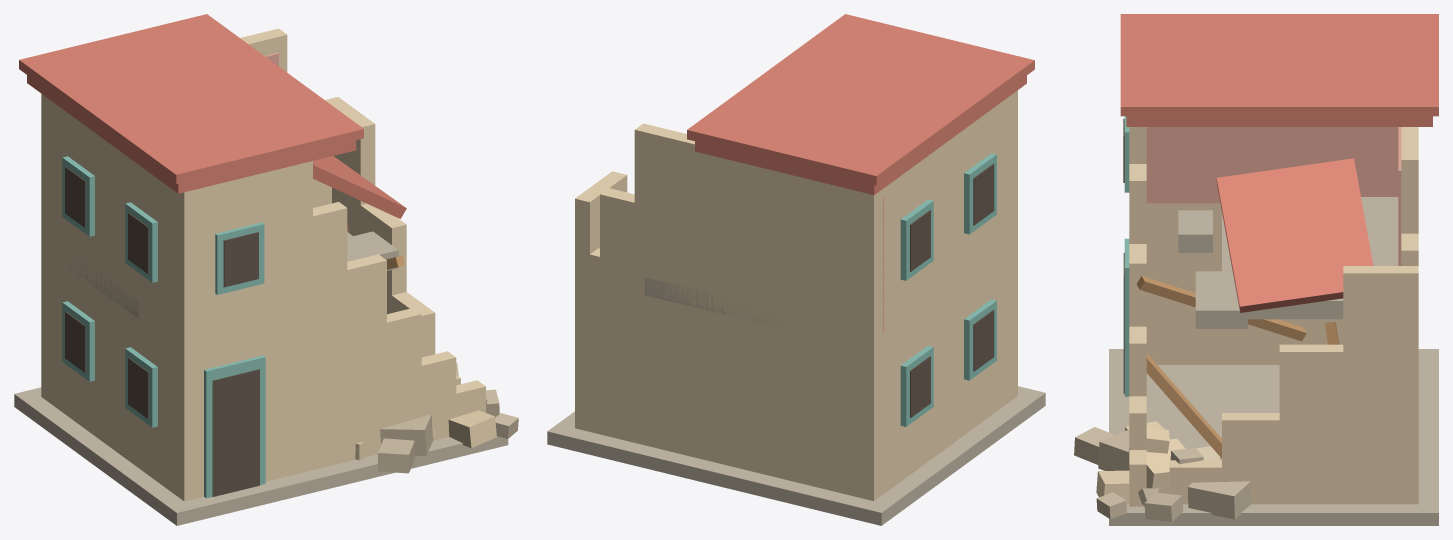
Rendered from wrecked-building.glb.
3 views of the same model, side by side, from view 1: azimuth 30°, elevation 25°; view 2: azimuth 150°, elevation 25°; view 3: azimuth 270°, elevation 25° (orthographic).
Visible parts, largest first — view 1: left_wall, roof_edge_trim, front_wall_main, front_break_0, ground_slab, front_break_1, door_dark, left_win_frame (×4), left_win_glass (×4), front_break_2, back_wall, roof_slab (+14 smaller); view 2: back_wall, left_wall, roof_edge_trim, ground_slab, back_wall_stub_a, left_win_frame (×4), back_wall_stub_b, left_win_glass (×4), roof_slab, right_stub_a, floor2_main; view 3: roof_edge_trim, roof_fallen_panel, ground_slab, right_stub_a, left_inner_lining, left_wall, right_stub_b, right_stub_c, floor2_main, roof_slab, back_wall_stub_b, floor2_jag_a (+23 smaller).
Part boxes in pixels (<box>): left_wall: <box>42,100,198,501</box>; roof_edge_trim: <box>19,14,363,183</box>; front_wall_main: <box>175,161,312,499</box>; front_break_0: <box>303,202,347,472</box>; ground_slab: <box>14,387,508,525</box>; front_break_1: <box>347,254,386,461</box>; door_dark: <box>212,369,259,496</box>; left_win_frame (×4): <box>62,156,157,427</box>; left_win_glass (×4): <box>65,166,148,418</box>; front_break_2: <box>387,308,421,426</box>; back_wall: <box>41,28,287,402</box>; roof_slab: <box>27,75,356,193</box>; back_wall: <box>634,123,882,500</box>; left_wall: <box>864,90,1017,500</box>; roof_edge_trim: <box>687,14,1034,185</box>; ground_slab: <box>547,386,1045,525</box>; back_wall_stub_a: <box>600,188,634,442</box>; left_win_frame (×4): <box>900,153,996,426</box>; back_wall_stub_b: <box>575,248,599,434</box>; left_win_glass (×4): <box>910,163,994,417</box>; roof_slab: <box>695,75,1026,195</box>; right_stub_a: <box>575,171,627,431</box>; floor2_main: <box>644,277,906,349</box>; roof_edge_trim: <box>1120,14,1438,116</box>; roof_fallen_panel: <box>1216,158,1373,312</box>; ground_slab: <box>1109,349,1438,525</box>; right_stub_a: <box>1343,266,1418,504</box>; left_inner_lining: <box>1146,127,1398,203</box>; left_wall: <box>1146,203,1343,364</box>; right_stub_b: <box>1279,344,1343,504</box>; right_stub_c: <box>1222,413,1279,504</box>; floor2_main: <box>1222,197,1398,319</box>; roof_slab: <box>1126,116,1432,126</box>; back_wall_stub_b: <box>1401,326,1418,504</box>; floor2_jag_a: <box>1195,271,1247,328</box>.
Size of the model in its own units: 7.09 by 6.68 by 6.3.
